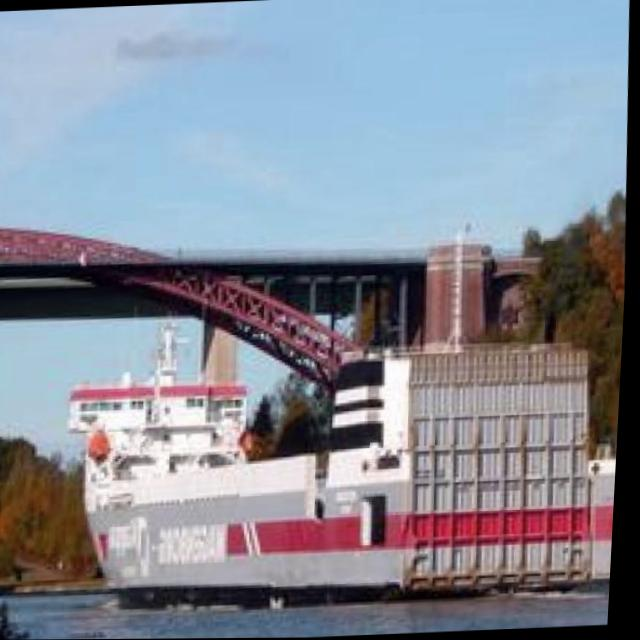ship2: (76, 319, 621, 602)
